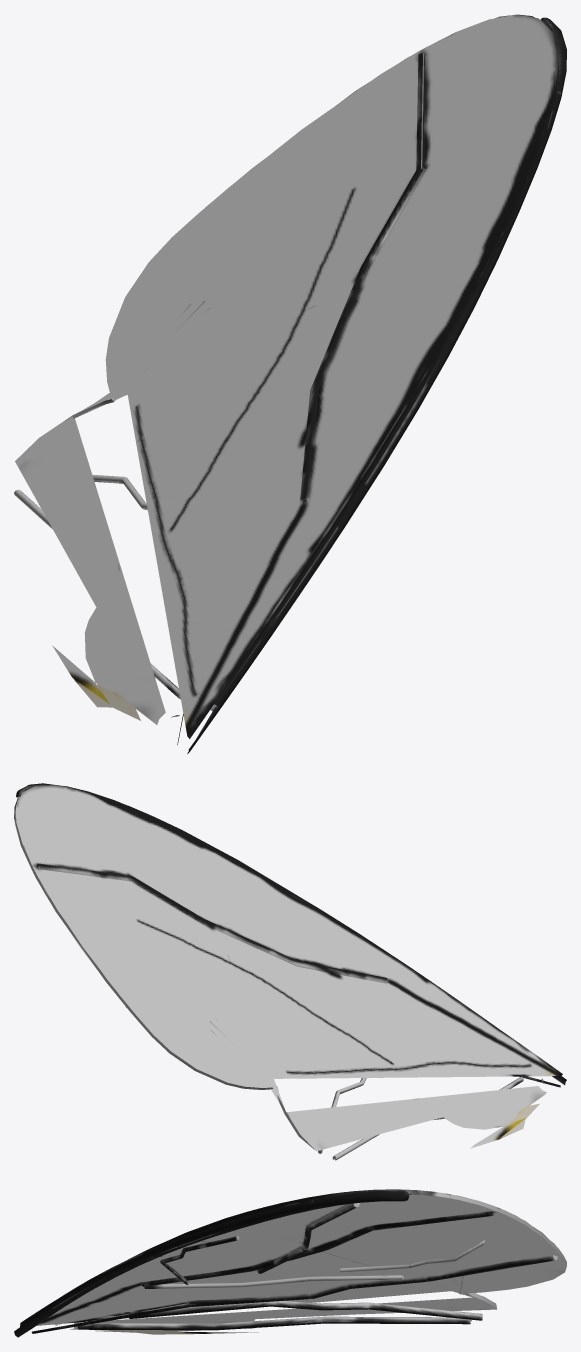
The model's file is WaspWing1.fbx.
3 renders of one model, top to bottom at view 1: azimuth 30°, elevation 25°; view 2: azimuth 150°, elevation 25°; view 3: azimuth 270°, elevation 25°, orthographic. The views are drawn at different scales.
Parts seen in each view (by area): view 1: insect; view 2: insect; view 3: insect.
Part boxes in pixels (x1,y1,x2,y2): insect: (14,14,566,753); insect: (14,783,566,1160); insect: (14,1189,566,1337).
Size of the model in its own units: 316 by 227 by 283.
